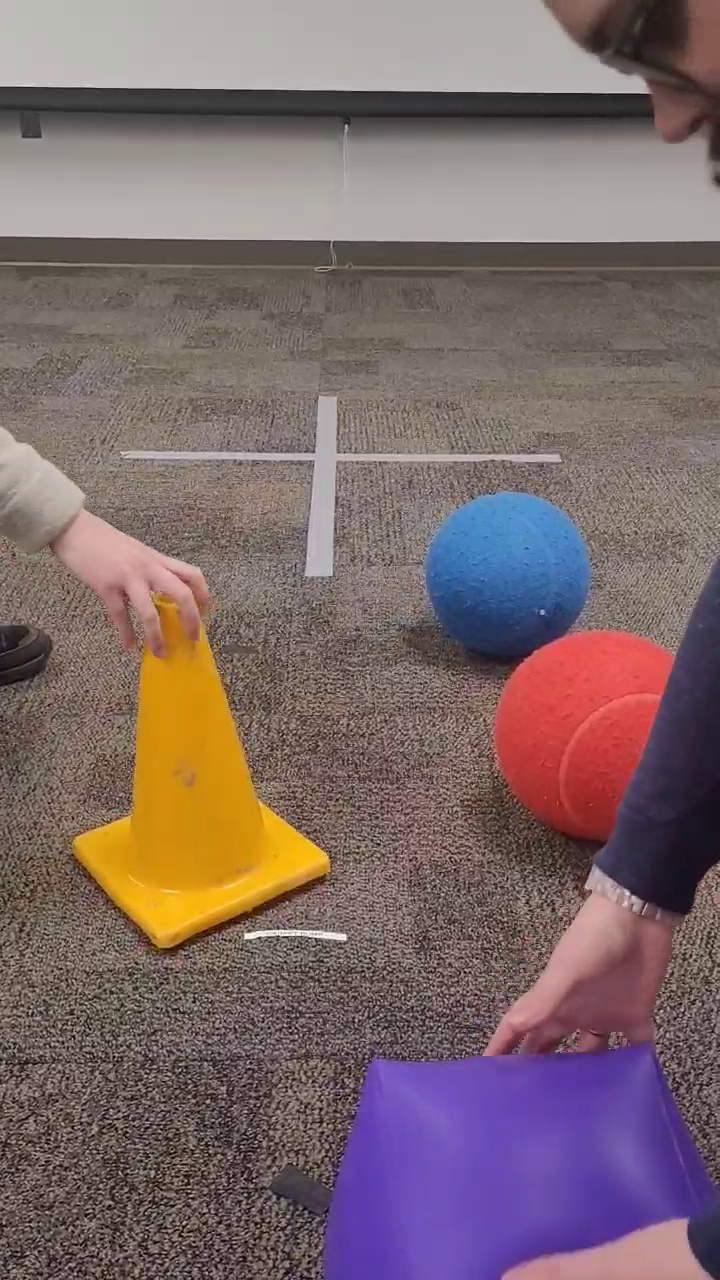ball: (493, 624, 720, 846), (420, 488, 593, 661)
cone: (70, 587, 334, 956)
cube: (318, 1053, 715, 1275)
face: (529, 2, 719, 201)
foot: (1, 621, 53, 684)
hand: (487, 553, 720, 1057), (1, 414, 213, 658), (499, 1212, 718, 1278)
